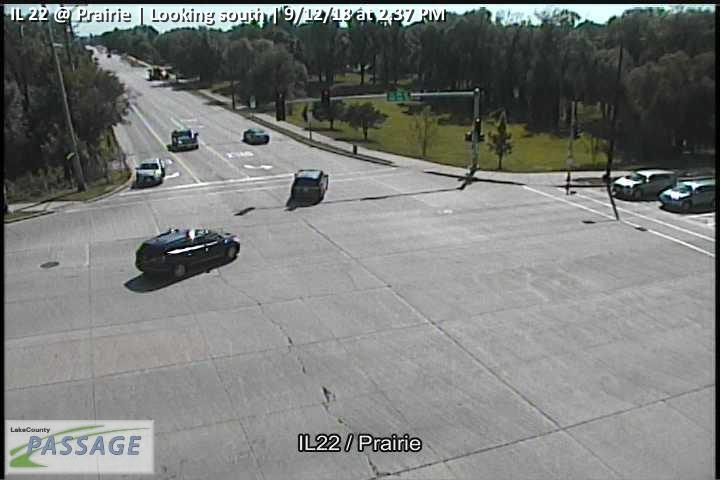SUV: (135, 227, 241, 279), (611, 168, 677, 199), (659, 179, 716, 212), (290, 168, 328, 201)
Sedan: (135, 159, 165, 185), (243, 127, 270, 144)
Truck: (170, 127, 200, 150)
